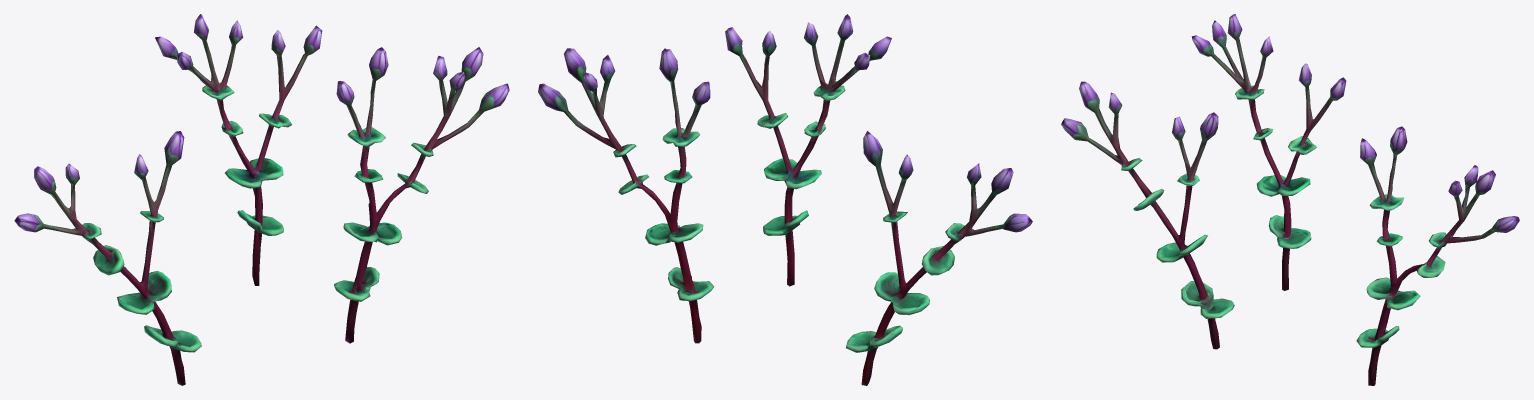
3 views of the same model, side by side, from view 1: azimuth 30°, elevation 25°; view 2: azimuth 150°, elevation 25°; view 3: azimuth 330°, elevation 25° (orthographic). The views are drawn at different scales.
Parts seen in each view (by area): view 1: Mesh_0; view 2: Mesh_0; view 3: Mesh_0.
Part boxes in pixels (x1=…): Mesh_0: x1=14, y1=14, x2=509, y2=385; Mesh_0: x1=538, y1=14, x2=1032, y2=385; Mesh_0: x1=1061, y1=14, x2=1519, y2=385.
Size of the model in its own units: 1.9 by 1.35 by 0.1754.
Materials: 1 (1 with a texture image).
